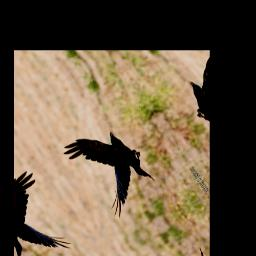Crow: (59, 113, 166, 225)
